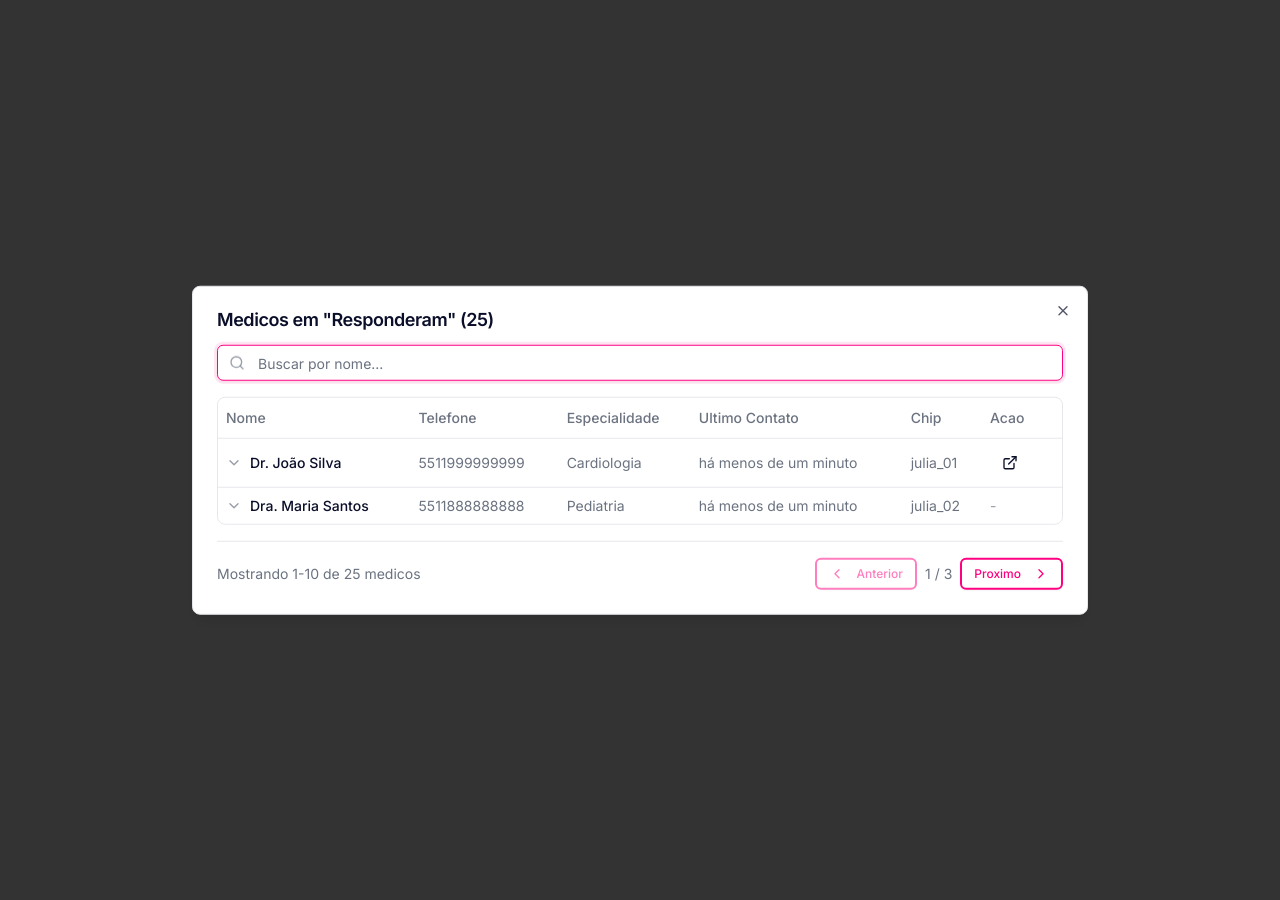
Test: FunnelDrilldownModal › Busca › limpa busca ao clicar no X
Type "João" into the field with placeholder "Buscar por nome...". click: (640, 363)
box: [217,345,1063,381]
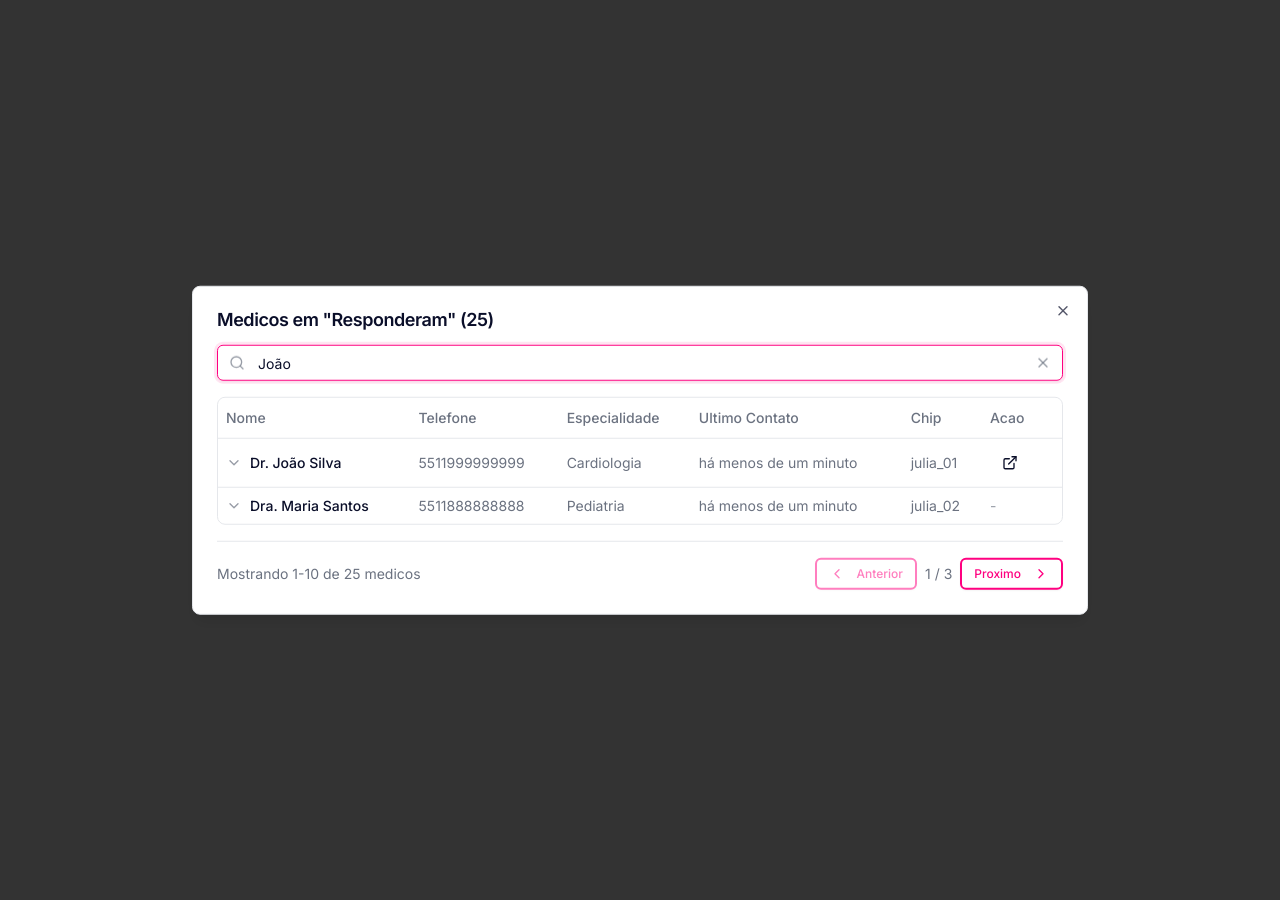
Click the button named "Limpar busca". click: (1043, 363)
box: [1035,355,1051,371]
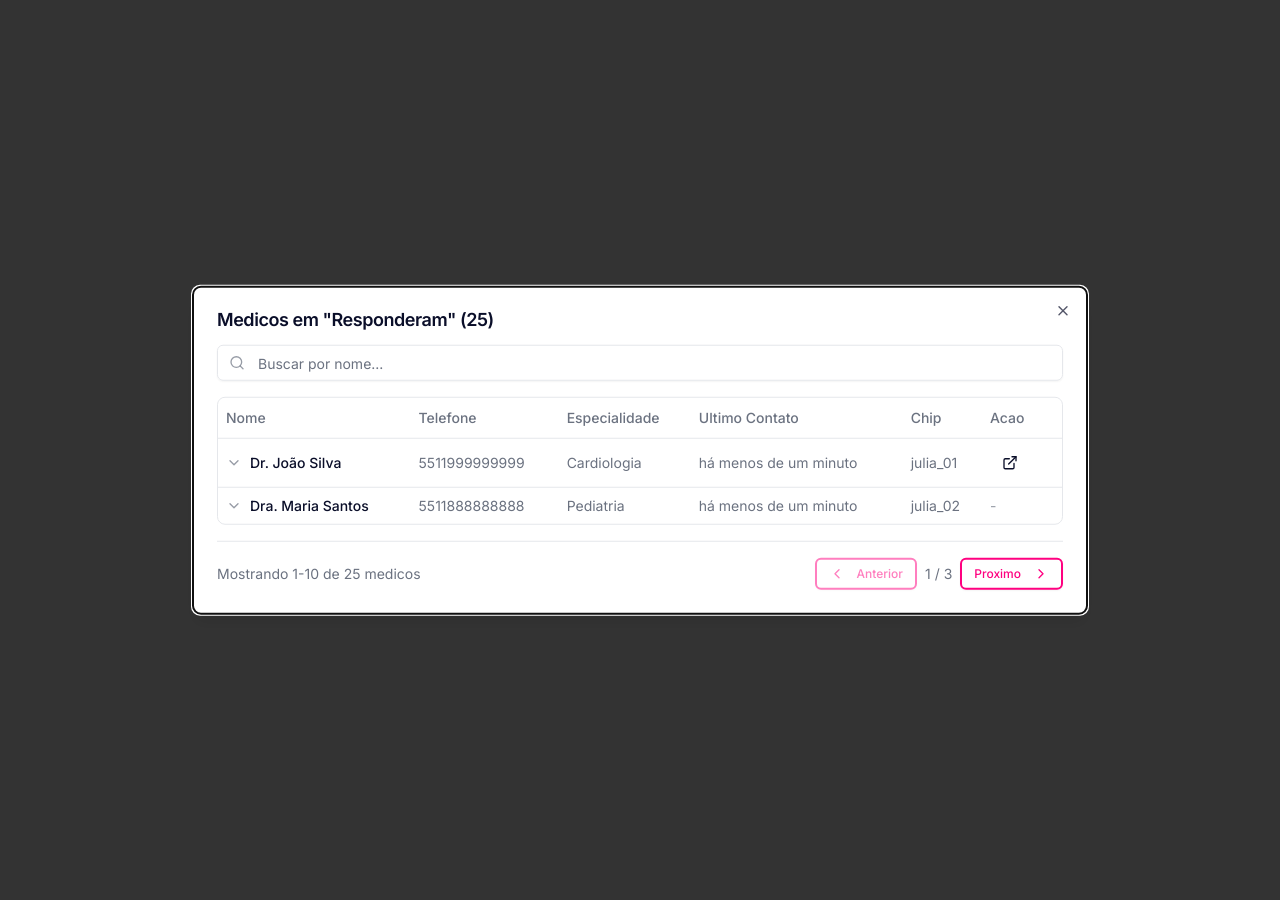
expect the field with placeholder "Buscar por nome..." is empty: met, box [217,345,1063,381]
